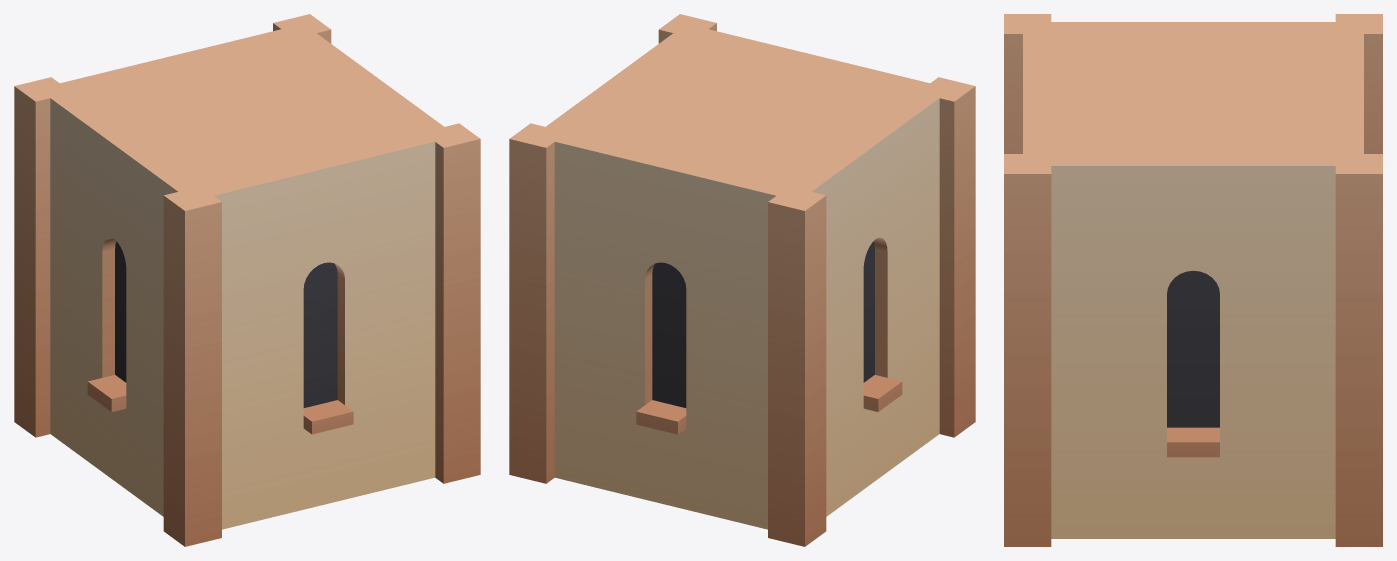
The model's file is tower-square-mid-windows.obj.
The picture shows the model from 3 angles, left to right: view 1: azimuth 30°, elevation 25°; view 2: azimuth 150°, elevation 25°; view 3: azimuth 270°, elevation 25°; orthographic projection. The views are drawn at different scales.
Parts seen in each view (by area): view 1: tower-square-mid-windows; view 2: tower-square-mid-windows; view 3: tower-square-mid-windows.
Boxes of the visible parts, <box> form: tower-square-mid-windows: <box>14,14,480,546</box>; tower-square-mid-windows: <box>509,14,975,546</box>; tower-square-mid-windows: <box>1004,14,1382,546</box>.
Size of the model in its own units: 0.93 by 1.01 by 0.93.
Materials: 1 (1 with a texture image).
